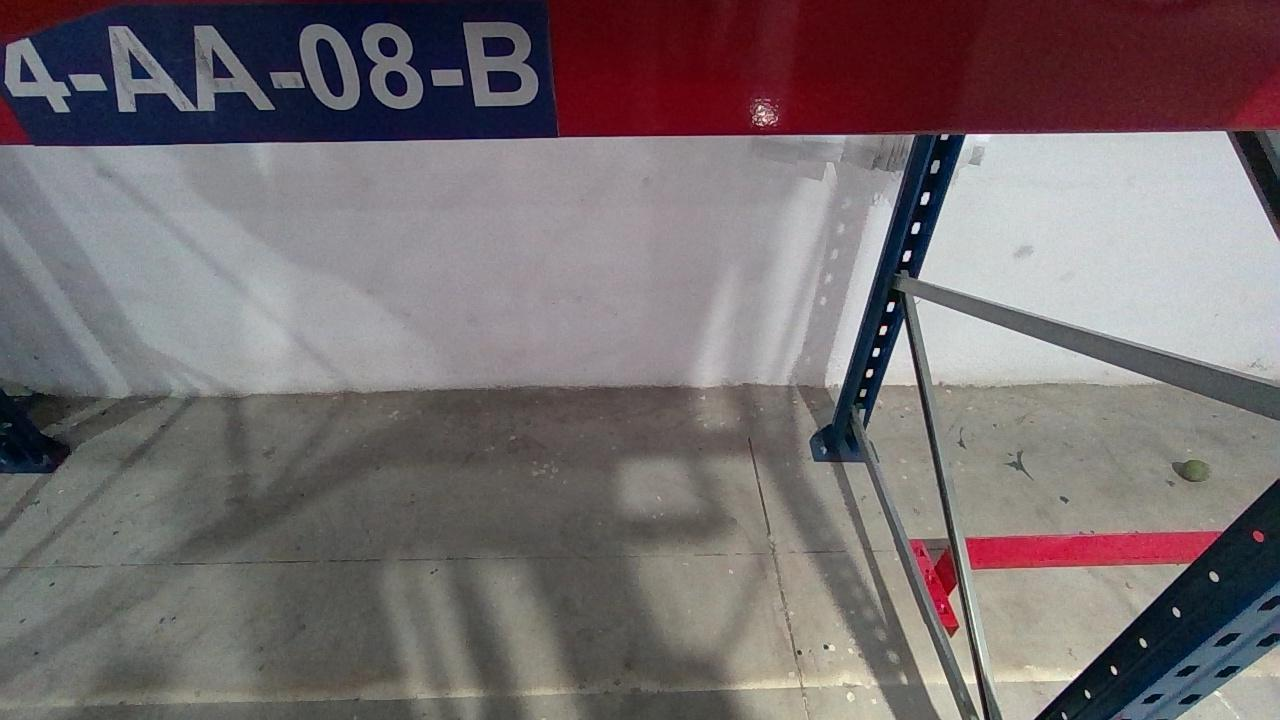h_rack: (0, 4, 1280, 146)
